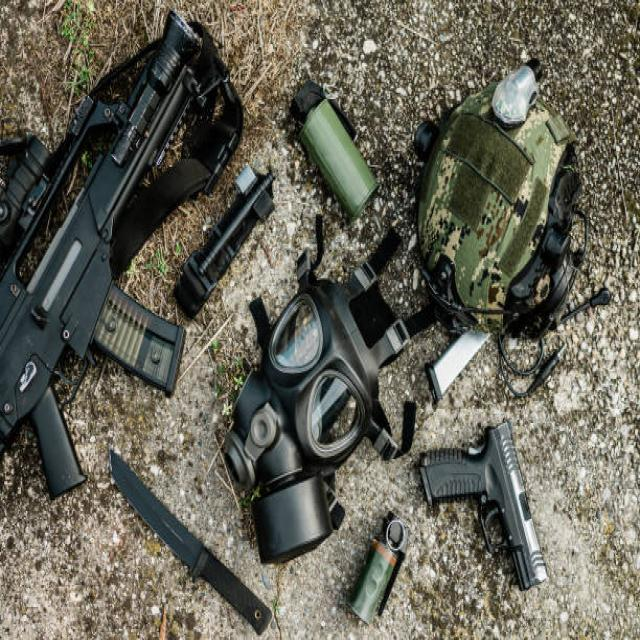grenade: (354, 520, 408, 625)
